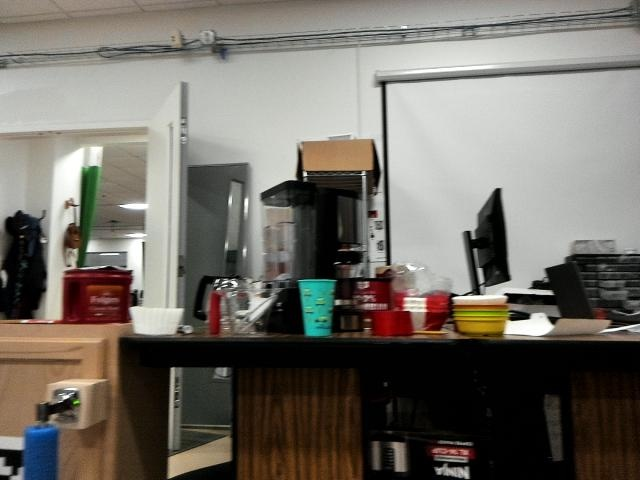coffee_cup: (295, 275, 342, 342)
noodle_handle: (18, 417, 69, 480)
